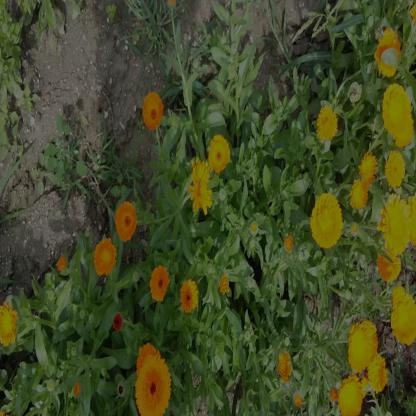marigold: (137, 346, 169, 416), (312, 193, 343, 250), (380, 199, 410, 252), (383, 86, 410, 144), (188, 156, 212, 211), (348, 323, 375, 370), (392, 292, 415, 346), (336, 376, 366, 412), (376, 30, 398, 76), (114, 201, 136, 241), (317, 104, 340, 140), (208, 132, 229, 170), (386, 150, 406, 188), (142, 89, 161, 129), (180, 282, 198, 314), (0, 305, 14, 345), (351, 180, 367, 209)
